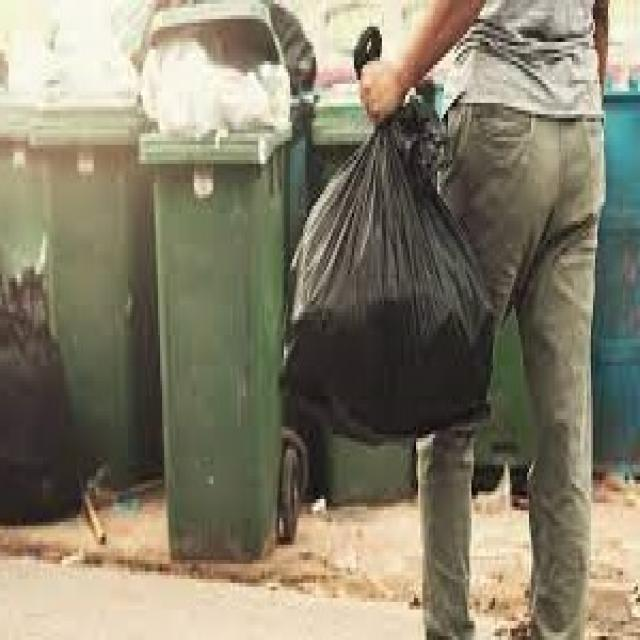sampah-detection: (275, 27, 499, 446), (141, 32, 294, 155)
